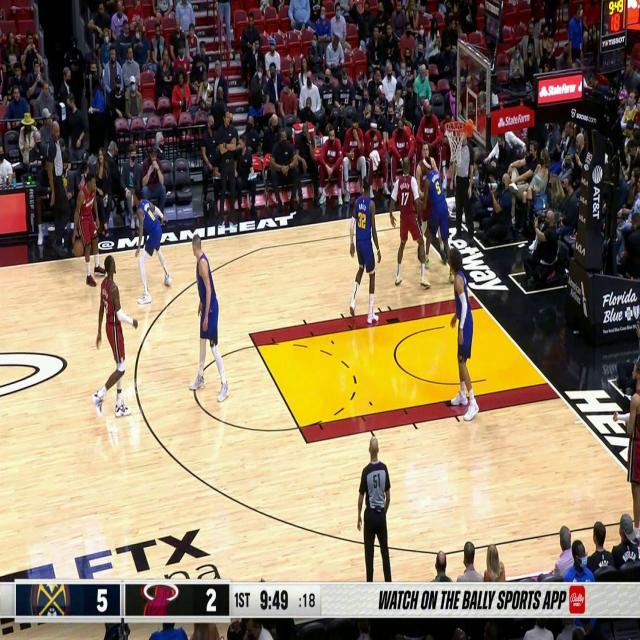rim: (73, 236, 83, 258)
